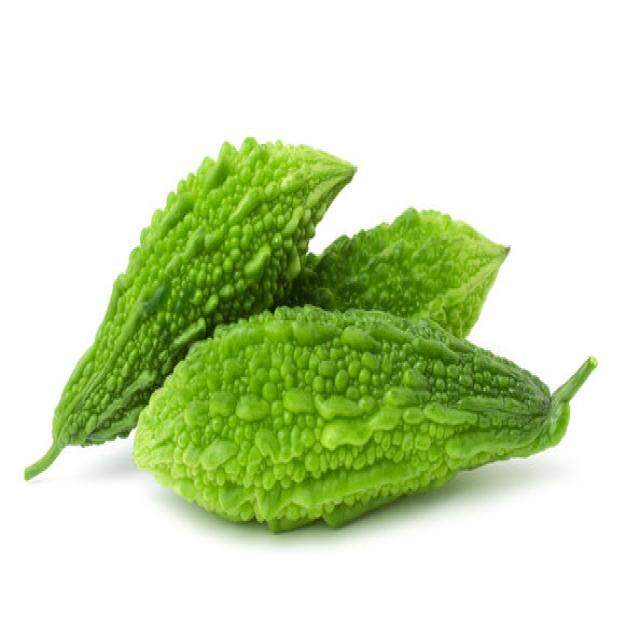Bitter_Gourd: (33, 134, 608, 534)
